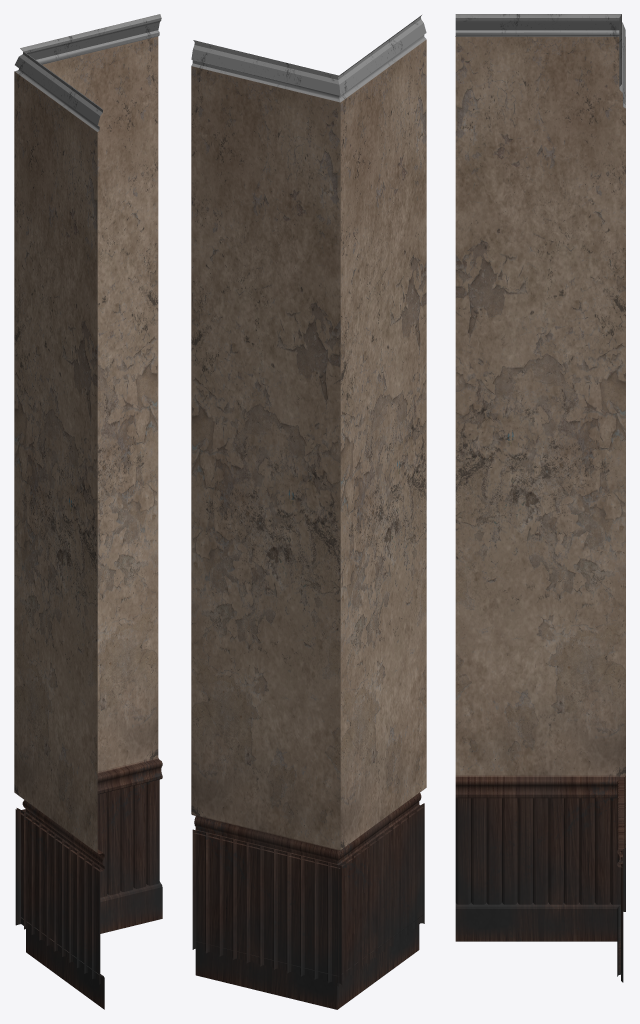
File: Mod_Wall_Corner_B_1x6_High.fbx
3 views of the same model, side by side, from view 1: azimuth 30°, elevation 25°; view 2: azimuth 150°, elevation 25°; view 3: azimuth 270°, elevation 25° (orthographic). The views are drawn at different scales.
Parts seen in each view (by area): view 1: Mod_Wall_Corner_B_1x6_High; view 2: Mod_Wall_Corner_B_1x6_High; view 3: Mod_Wall_Corner_B_1x6_High.
Boxes of the visible parts, x1,y1,x2,y2 form: Mod_Wall_Corner_B_1x6_High: [14, 14, 162, 1009]; Mod_Wall_Corner_B_1x6_High: [191, 15, 426, 1009]; Mod_Wall_Corner_B_1x6_High: [455, 14, 625, 982].
Size of the model in its own units: 100 by 600 by 100.
1 material, 1 textured.
